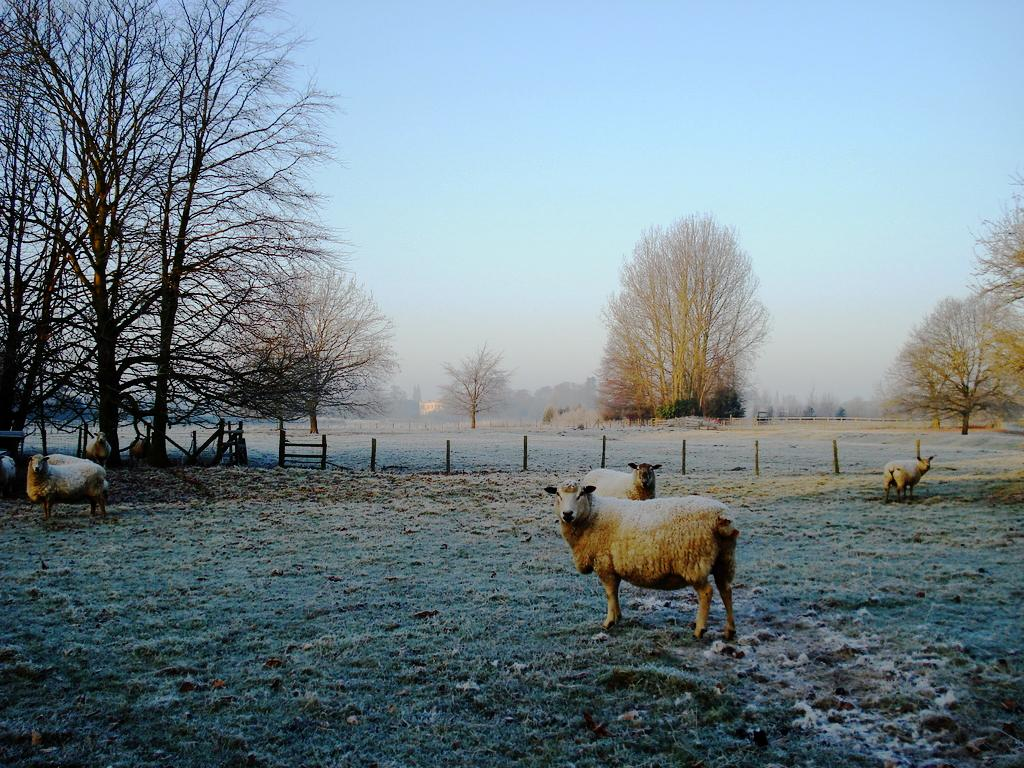Sheep: (542, 474, 738, 642), (28, 451, 106, 516), (583, 463, 662, 500), (884, 454, 936, 505), (45, 455, 108, 490), (86, 432, 112, 462), (0, 451, 17, 495), (129, 438, 153, 463)
